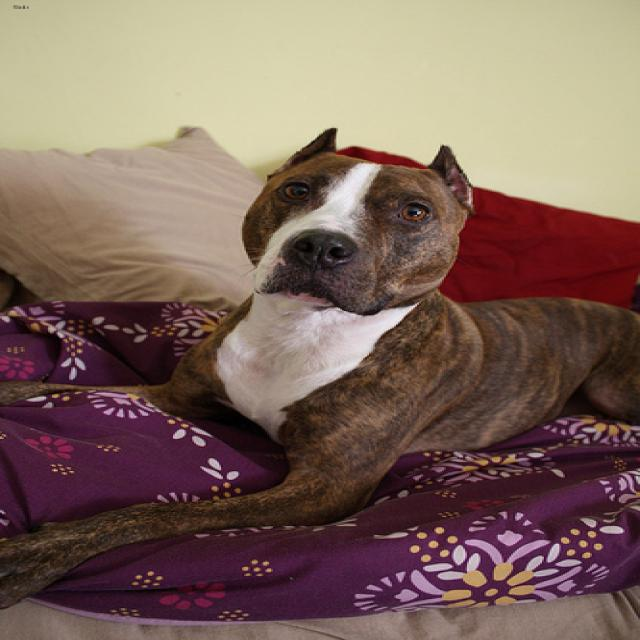dog-american_pit_bull_terrier: (2, 116, 636, 627)
